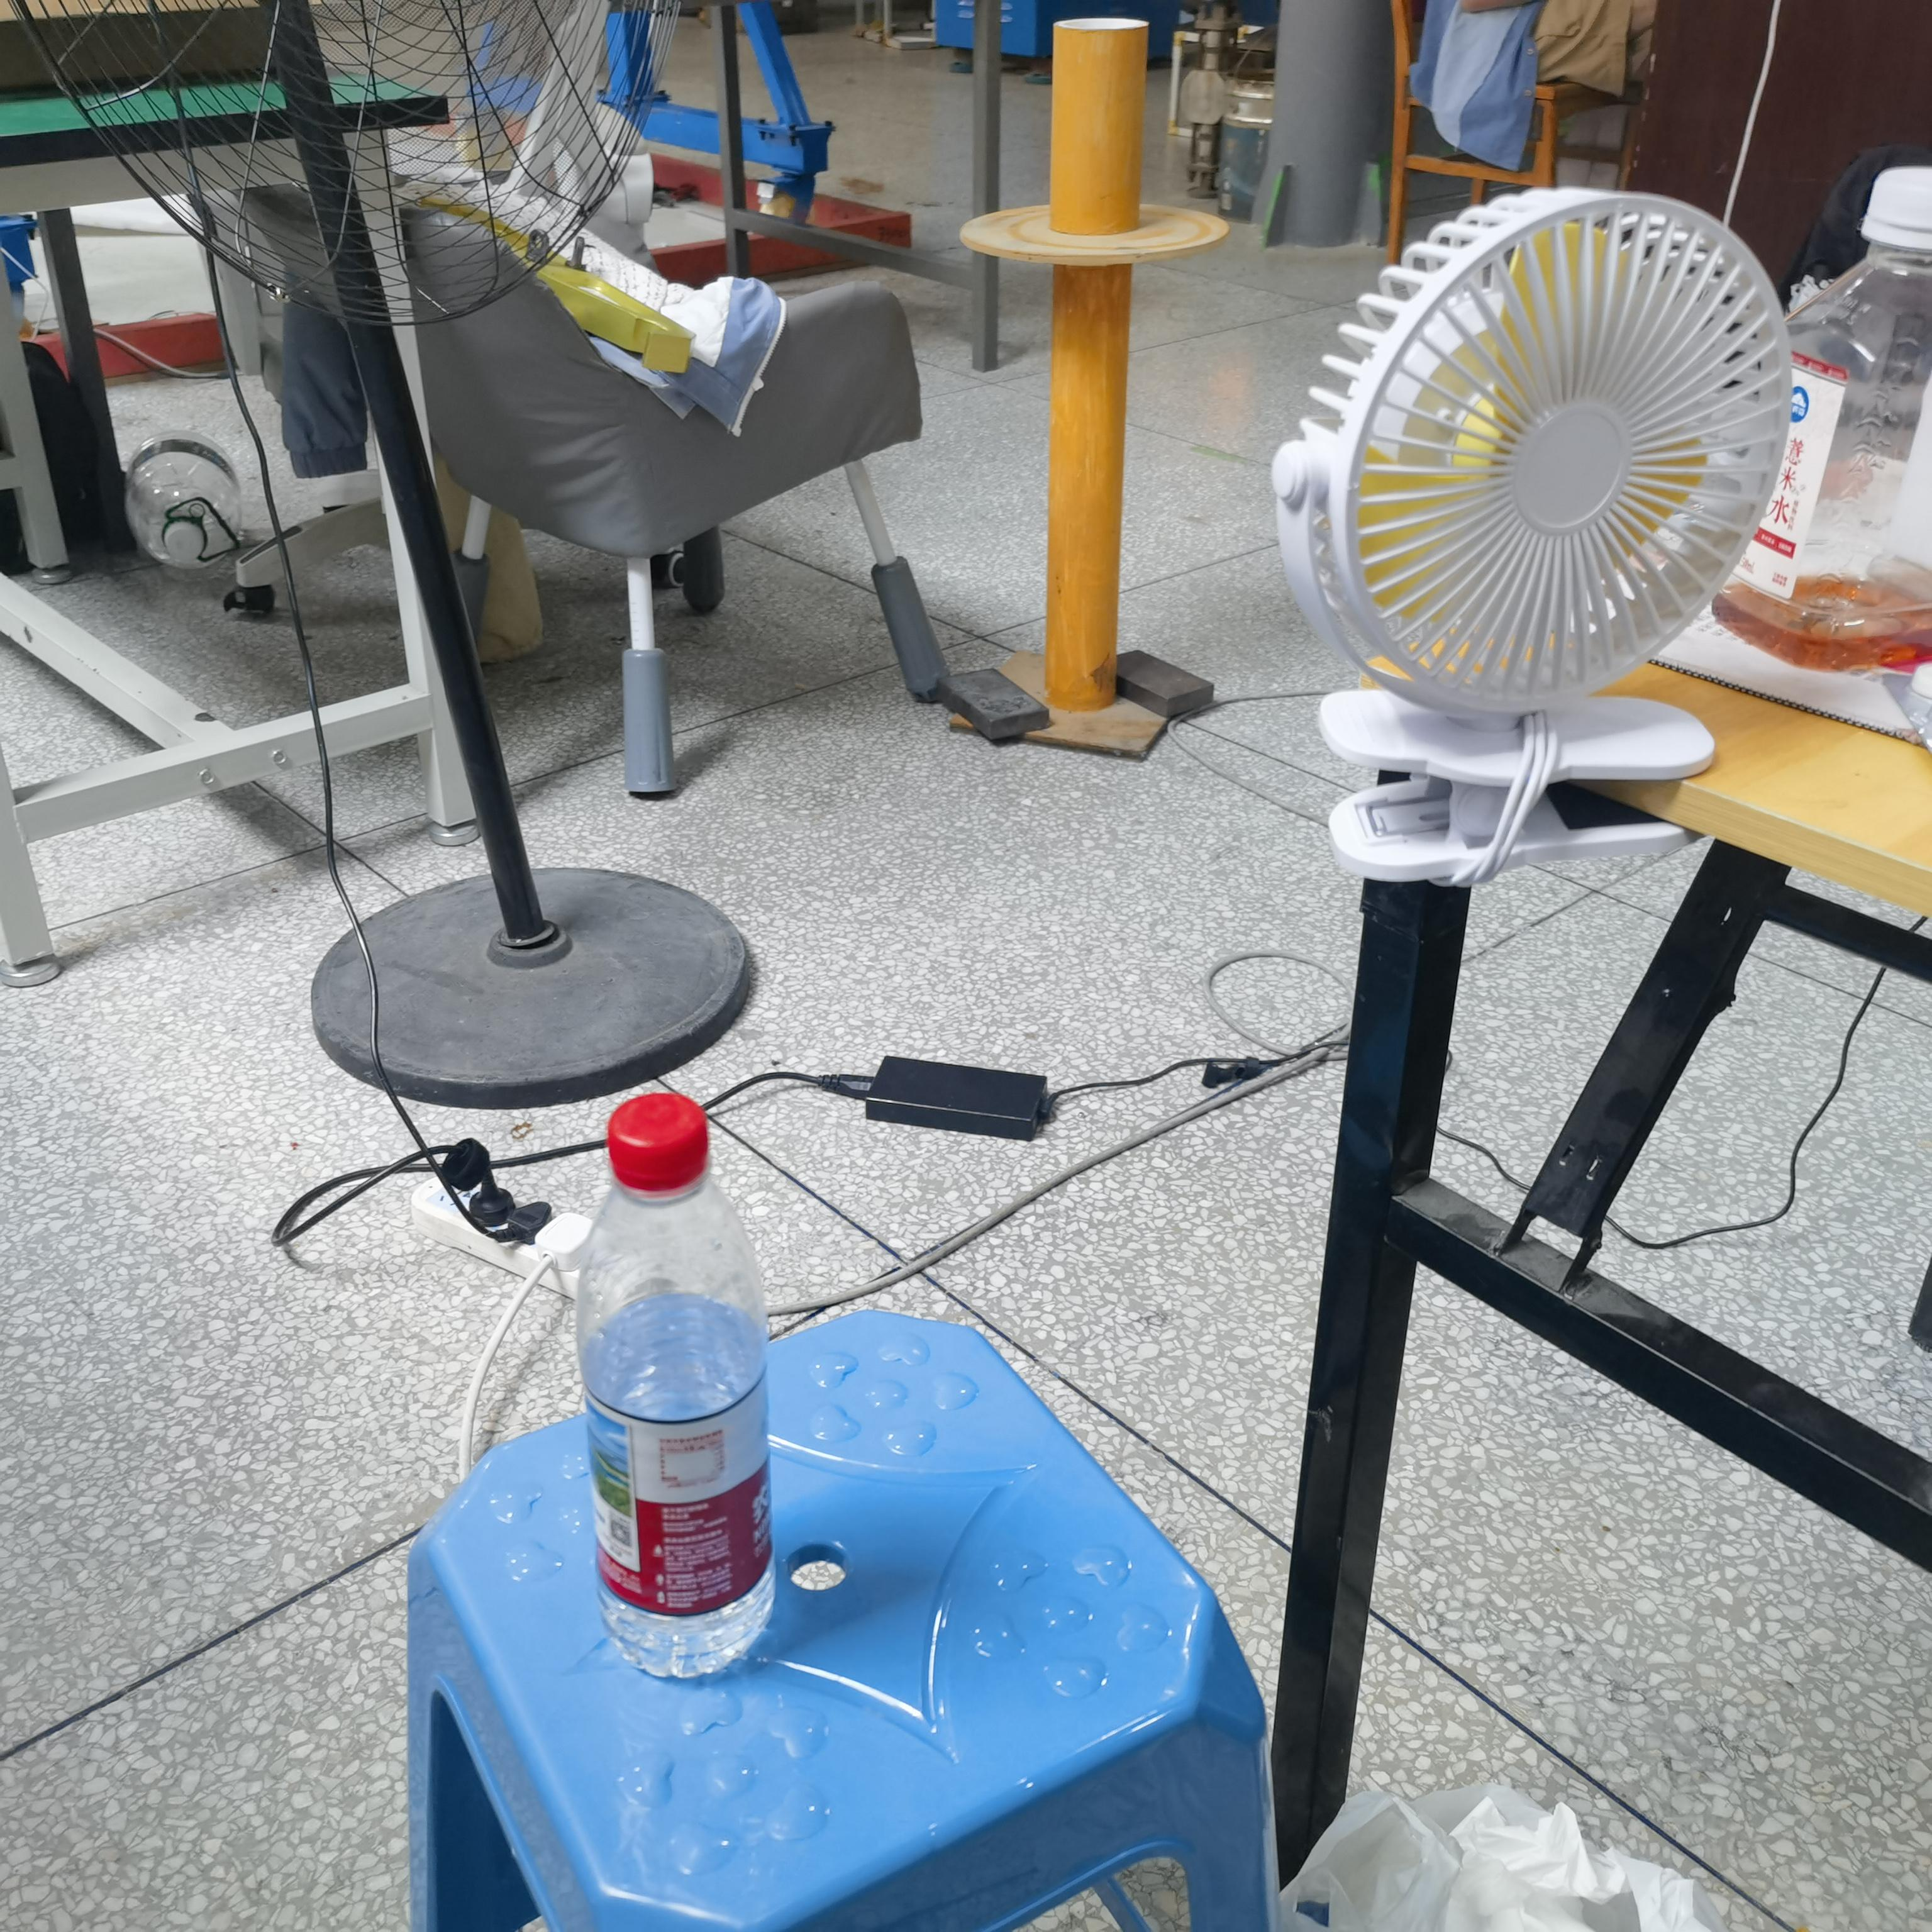bottle: (554, 1076, 819, 1709)
fan: (1272, 189, 1790, 886)
